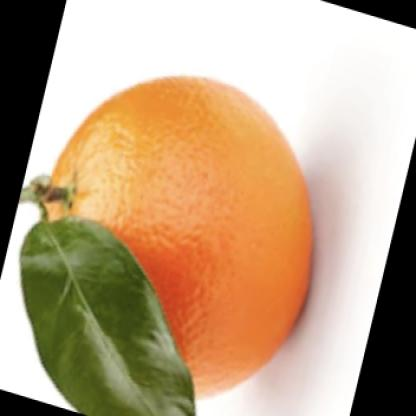fresh: (34, 73, 314, 409)
